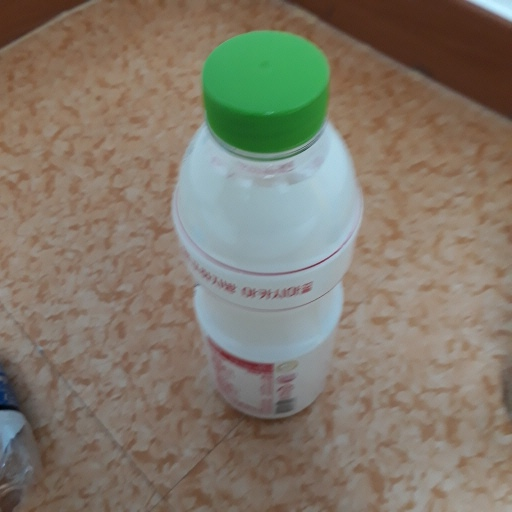Plastic_0: (170, 31, 366, 424)
